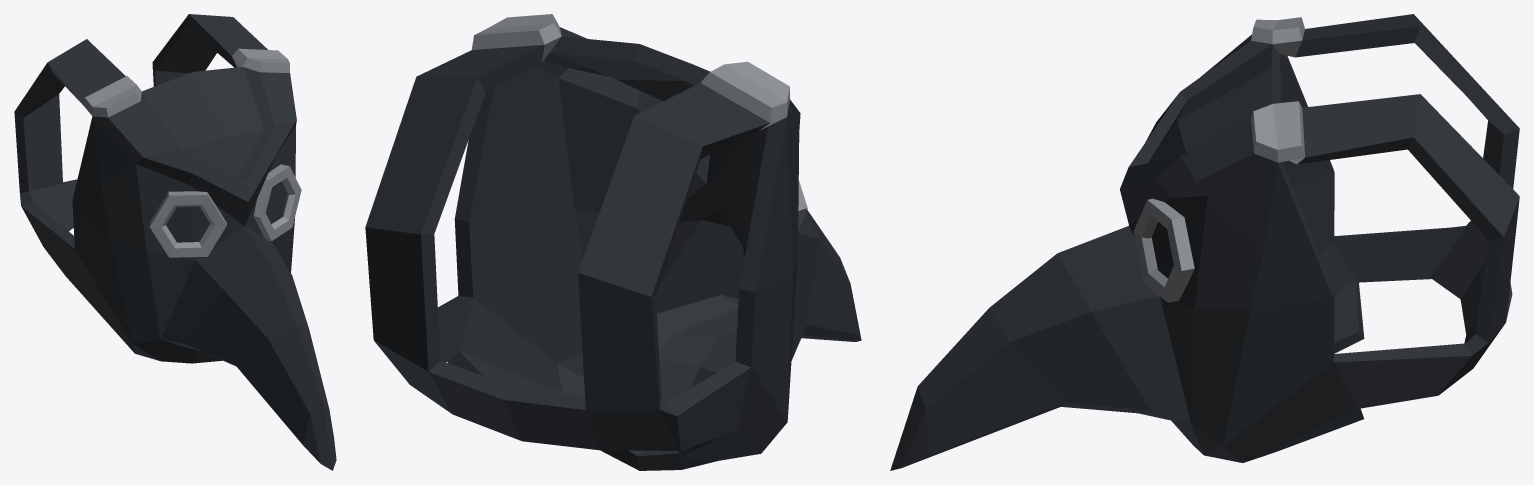
The model's file is Chr_Head_No_Elements_Female_01_Drop.fbx.
The picture shows the model from 3 angles, left to right: view 1: azimuth 30°, elevation 25°; view 2: azimuth 150°, elevation 25°; view 3: azimuth 270°, elevation 25°; orthographic projection. The views are drawn at different scales.
Visible parts, largest first — view 1: Chr_Head_No_Elements_Female_01_Static; view 2: Chr_Head_No_Elements_Female_01_Static; view 3: Chr_Head_No_Elements_Female_01_Static.
Boxes of the visible parts, box(x1,y1,x2,y2) form: Chr_Head_No_Elements_Female_01_Static: box(14, 14, 336, 470); Chr_Head_No_Elements_Female_01_Static: box(365, 14, 861, 470); Chr_Head_No_Elements_Female_01_Static: box(890, 14, 1519, 470).
Bounding box in the file's own units: 22.62 × 33.33 × 46.3.
